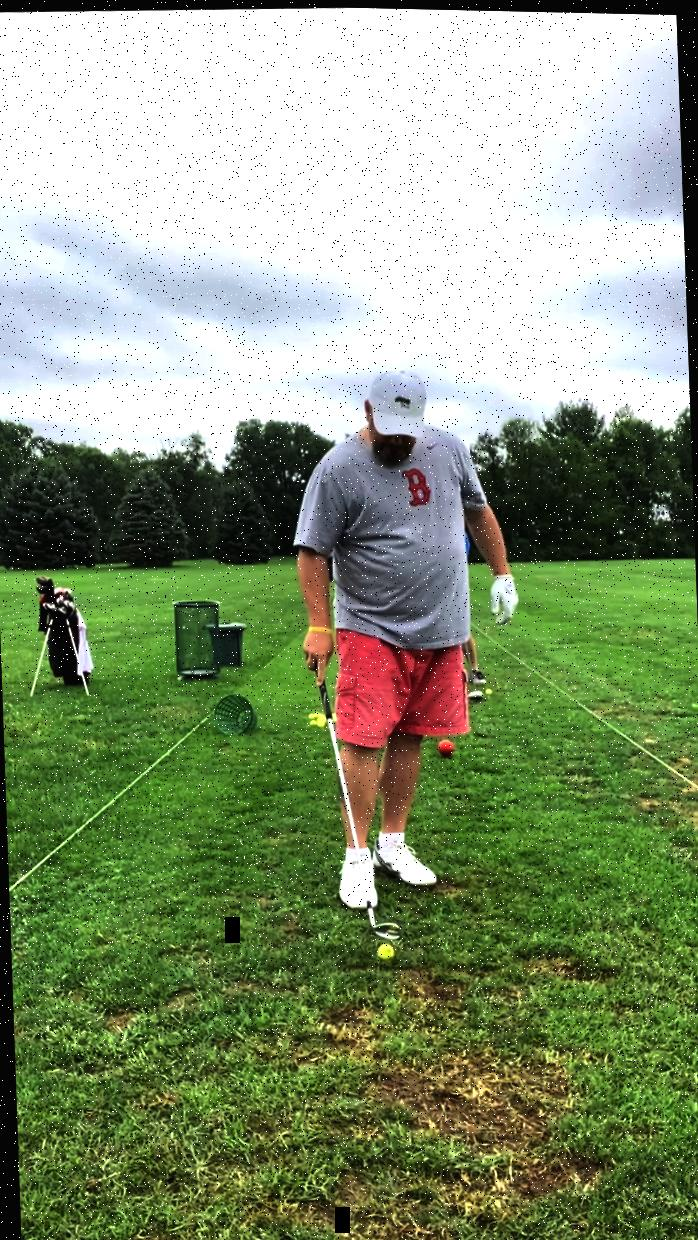ClubHead: (364, 900, 406, 953)
